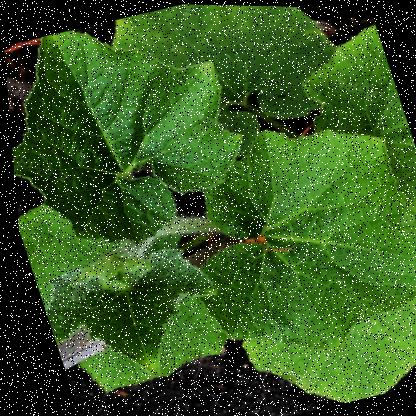Normal: (148, 90, 415, 384), (0, 0, 260, 266), (265, 150, 404, 314), (47, 53, 152, 163)
